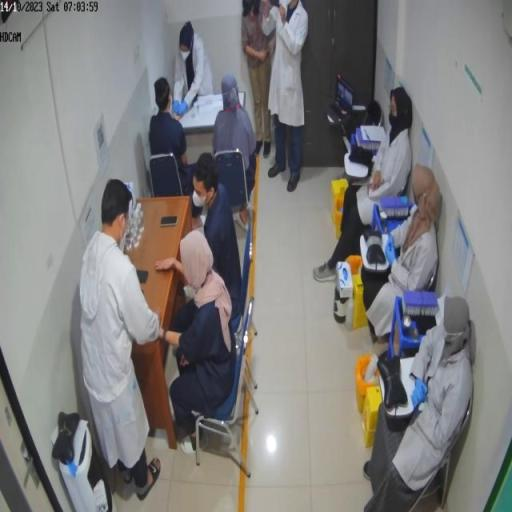person: (80, 181, 164, 503), (363, 296, 476, 508), (314, 88, 415, 283), (159, 230, 236, 452), (157, 155, 244, 330), (362, 166, 441, 346), (187, 154, 244, 328), (263, 1, 310, 194), (214, 74, 258, 215), (149, 78, 195, 196), (242, 1, 276, 160), (173, 22, 215, 120)
